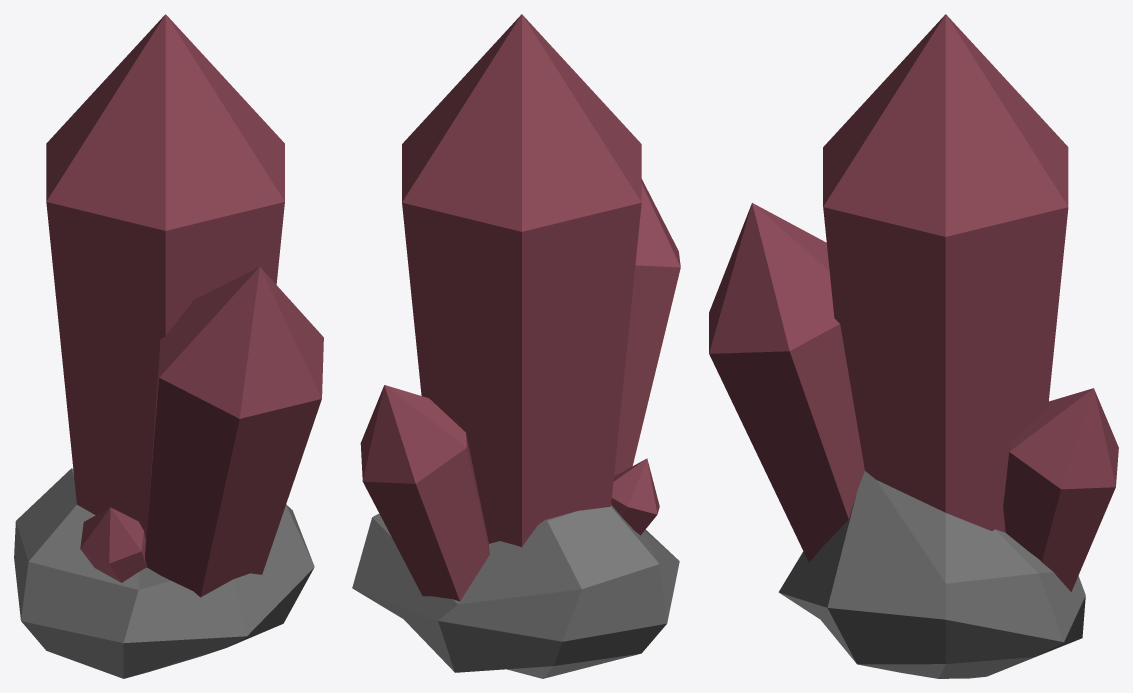
The model's file is SM_Cristaux.fbx.
The picture shows the model from 3 angles, left to right: view 1: azimuth 30°, elevation 25°; view 2: azimuth 150°, elevation 25°; view 3: azimuth 270°, elevation 25°; orthographic projection. The views are drawn at different scales.
Visible parts, largest first — view 1: pCylinder10; view 2: pCylinder10; view 3: pCylinder10.
Part boxes in pixels (bbox=[...]): pCylinder10: bbox=[14, 14, 323, 678]; pCylinder10: bbox=[352, 14, 680, 678]; pCylinder10: bbox=[709, 14, 1118, 678].
Size of the model in its own units: 1.17 by 2.64 by 1.49.
